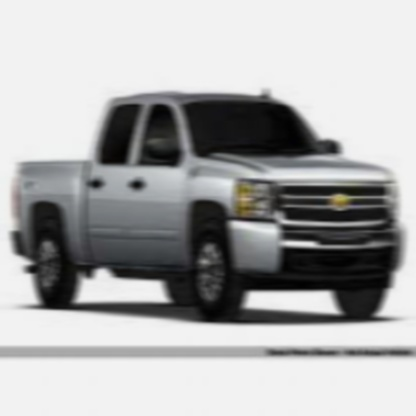Vehicle: (14, 92, 408, 326)
